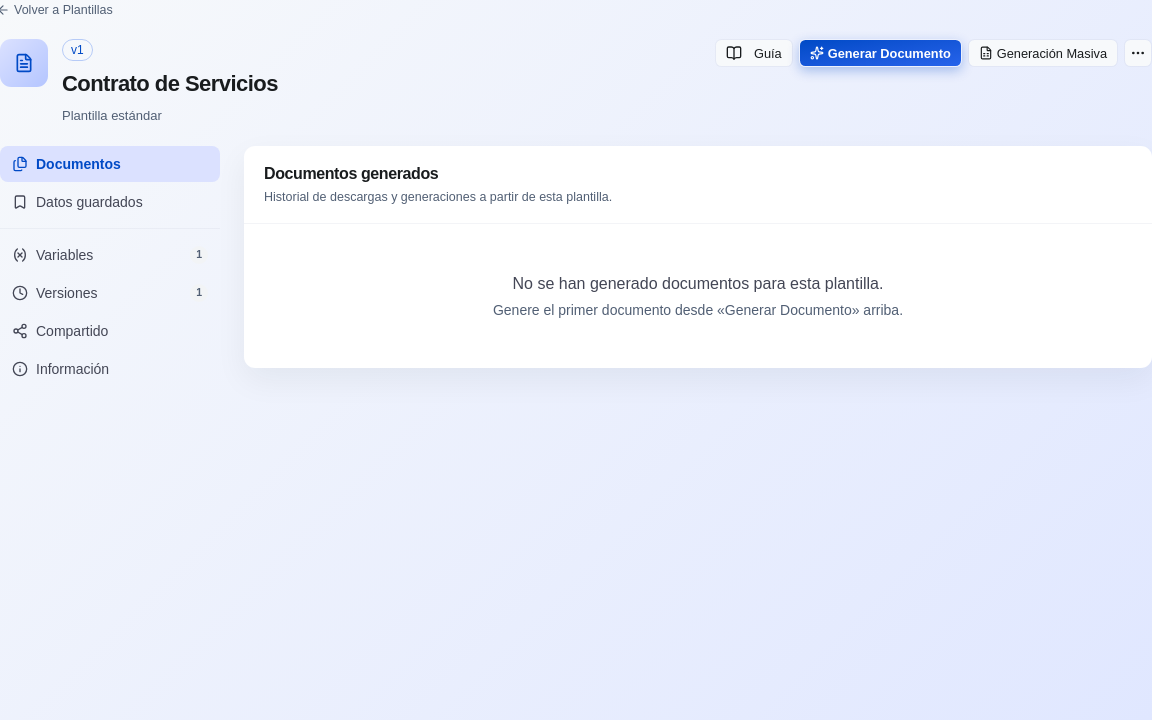
TemplateDetail — action row reorganization › opens the delete dialog from the 'Más acciones' menu for an admin non-owner
This screenshot has width=1152, height=720.
Expected: the heading "Contrato de Servicios" is shown, left=62, top=67, right=278, bottom=100
Click the button named "más acciones": (1138,53) left=1124, top=39, right=1151, bottom=67
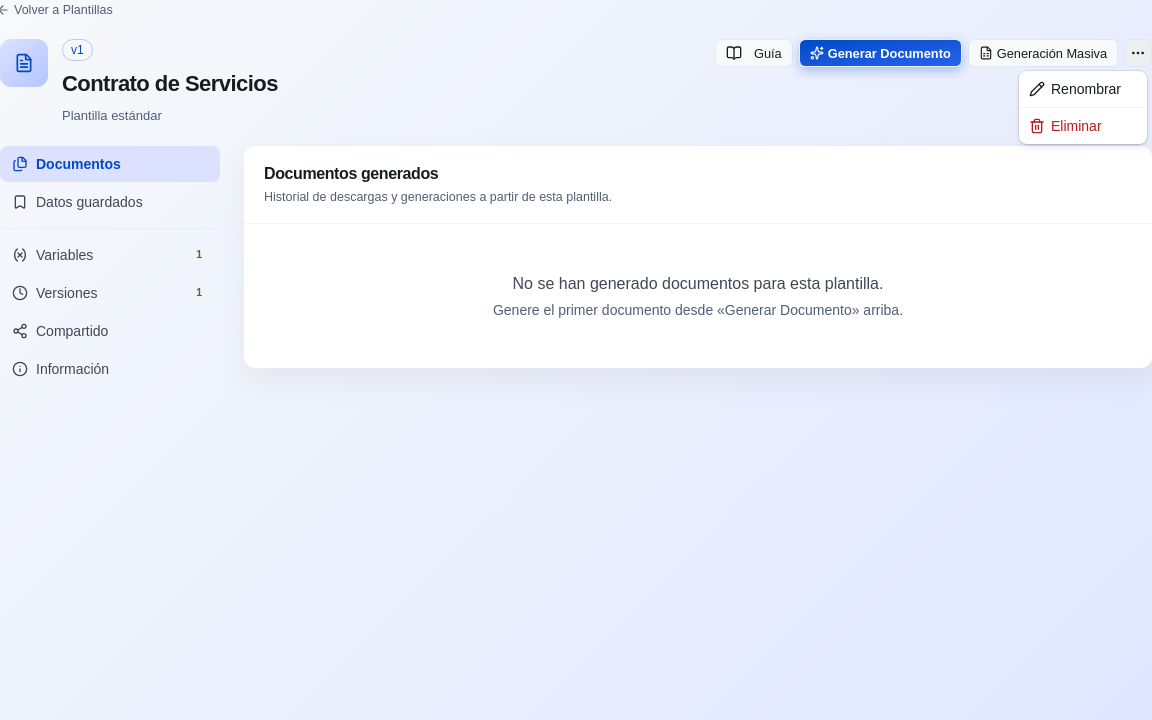
Click the menu item "Eliminar": (1065,126) left=1029, top=118, right=1102, bottom=134
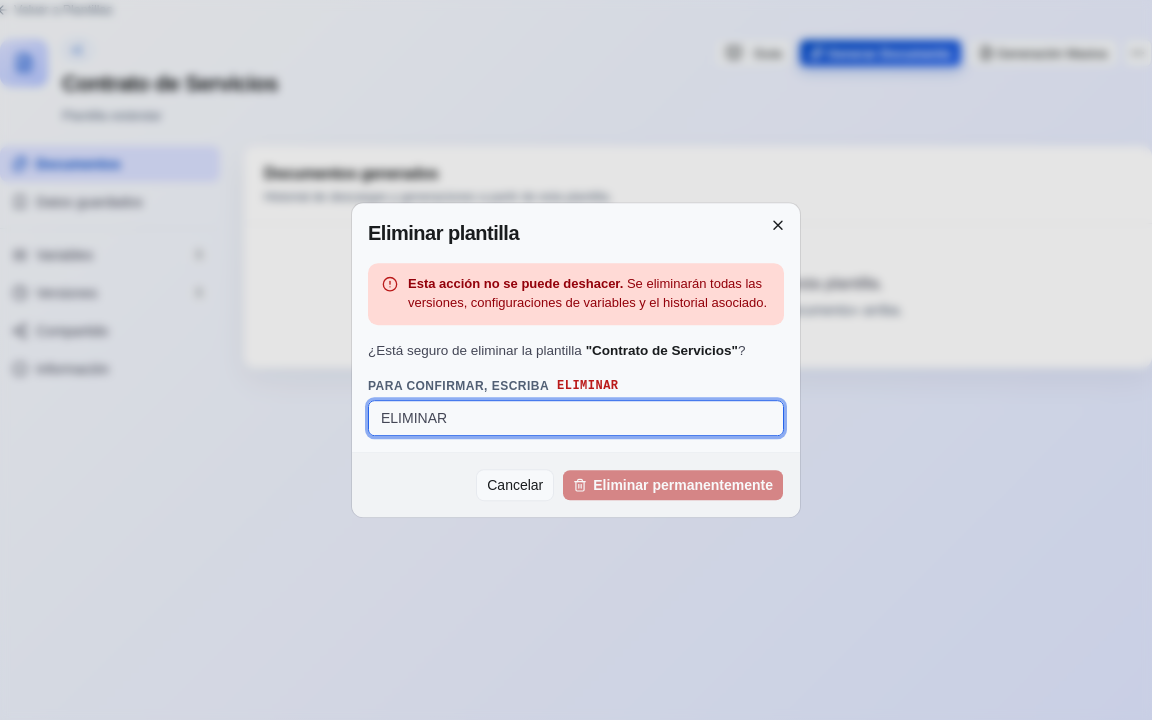
Expected: the dialog "Eliminar plantilla" is shown, left=352, top=203, right=800, bottom=517
